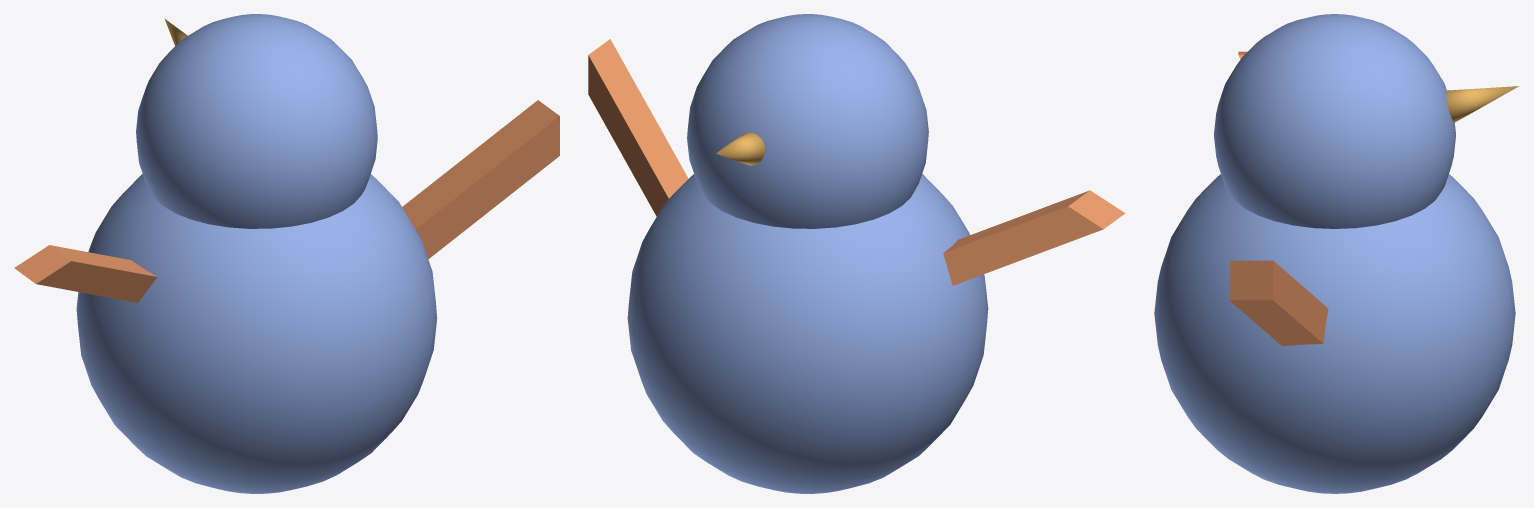
File: snowman.dae
The picture shows the model from 3 angles, left to right: view 1: azimuth 30°, elevation 25°; view 2: azimuth 150°, elevation 25°; view 3: azimuth 270°, elevation 25°; orthographic projection.
Parts seen in each view (by area): view 1: 球, 球.001, 立方体, 立方体.001; view 2: 球, 球.001, 立方体, 立方体.001, 円錐; view 3: 球, 球.001, 立方体, 円錐.
Boxes of the visible parts, x1=… form: 球: x1=76, y1=174, x2=437, y2=493; 球.001: x1=136, y1=14, x2=377, y2=228; 立方体: x1=402, y1=100, x2=559, y2=258; 立方体.001: x1=14, y1=245, x2=157, y2=302; 球: x1=627, y1=174, x2=988, y2=493; 球.001: x1=687, y1=14, x2=928, y2=228; 立方体: x1=588, y1=39, x2=688, y2=216; 立方体.001: x1=943, y1=190, x2=1125, y2=285; 円錐: x1=716, y1=132, x2=764, y2=165; 球: x1=1154, y1=174, x2=1515, y2=493; 球.001: x1=1214, y1=14, x2=1455, y2=228; 立方体: x1=1229, y1=260, x2=1328, y2=346; 円錐: x1=1446, y1=86, x2=1518, y2=122.
Bounding box in the file's own units: 4.95 × 3.02 × 4.12.
